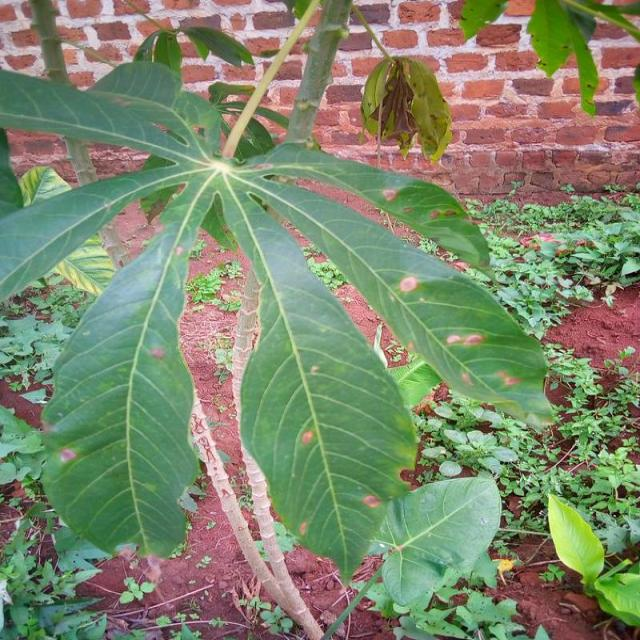cassava leaf: (0, 11, 558, 586), (222, 174, 419, 587), (39, 225, 201, 560), (372, 473, 502, 611), (546, 490, 605, 586)
